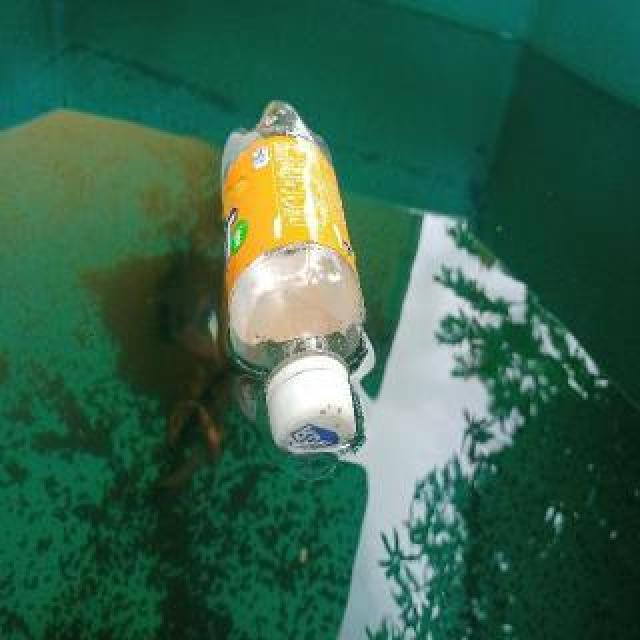Bottle: (210, 96, 370, 477)
